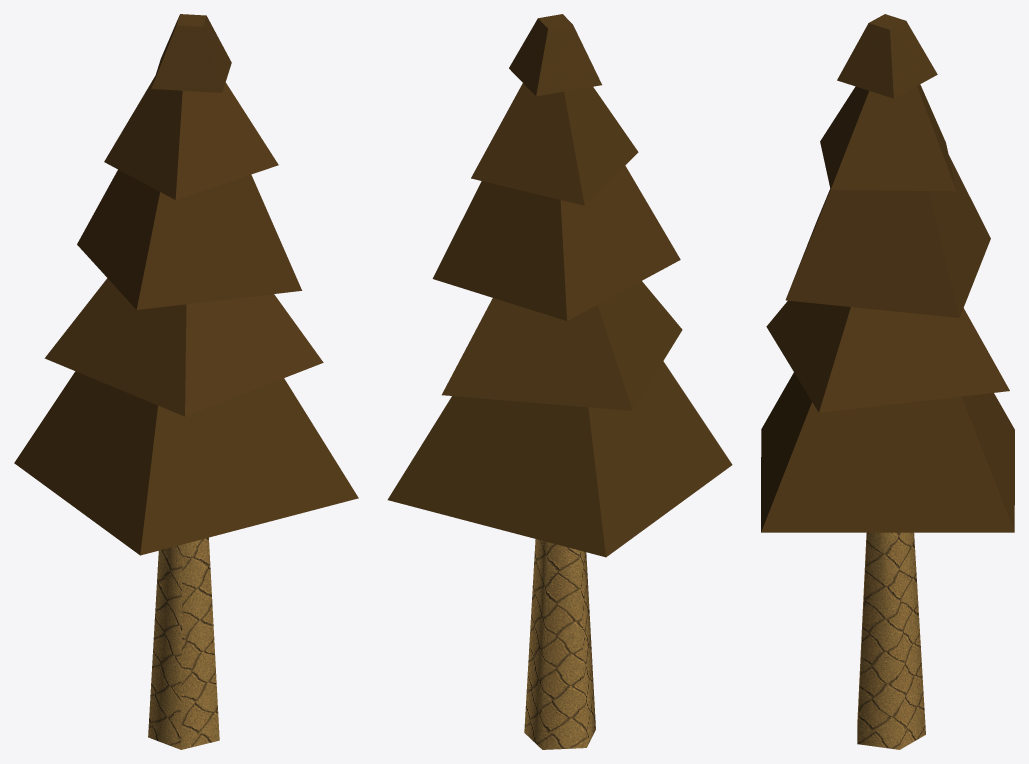
The model's file is hillTree7LP.obj.
3 renders of one model, left to right at view 1: azimuth 30°, elevation 25°; view 2: azimuth 150°, elevation 25°; view 3: azimuth 270°, elevation 25°, orthographic.
Parts seen in each view (by area): view 1: Cube, Cylinder_Cylinder.001; view 2: Cube, Cylinder_Cylinder.001; view 3: Cube, Cylinder_Cylinder.001.
Boxes of the visible parts, bbox=[...] form: Cube: bbox=[14, 14, 358, 555]; Cylinder_Cylinder.001: bbox=[148, 537, 219, 749]; Cube: bbox=[387, 14, 732, 557]; Cylinder_Cylinder.001: bbox=[524, 539, 595, 749]; Cube: bbox=[761, 14, 1014, 532]; Cylinder_Cylinder.001: bbox=[857, 532, 925, 749].
Size of the model in its own units: 1.12 by 3.47 by 1.12.
Materials: 2 (2 with a texture image).
